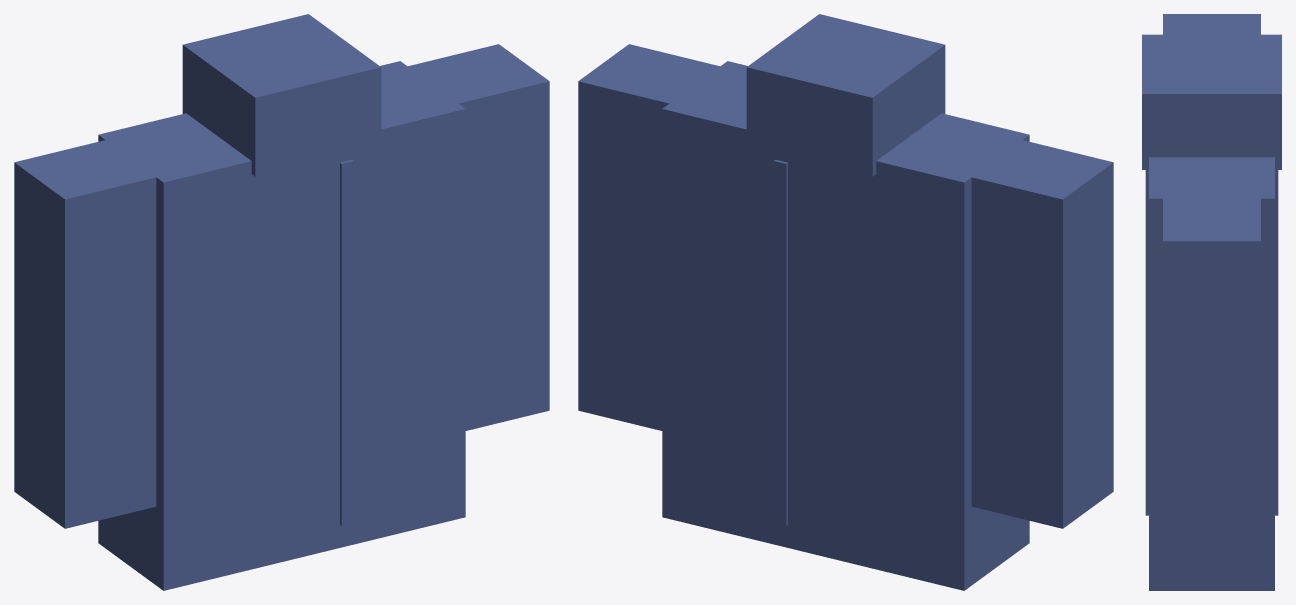
File: c_jacket_denim.glb
3 views of the same model, side by side, from view 1: azimuth 30°, elevation 25°; view 2: azimuth 150°, elevation 25°; view 3: azimuth 270°, elevation 25° (orthographic). The views are drawn at different scales.
Parts seen in each view (by area): view 1: c_jacket_denim; view 2: c_jacket_denim; view 3: c_jacket_denim.
Part boxes in pixels (x1=…): c_jacket_denim: x1=14, y1=14, x2=549, y2=590; c_jacket_denim: x1=578, y1=14, x2=1113, y2=590; c_jacket_denim: x1=1142, y1=14, x2=1281, y2=590.
Size of the model in its own units: 0.77 by 0.72 by 0.2.
